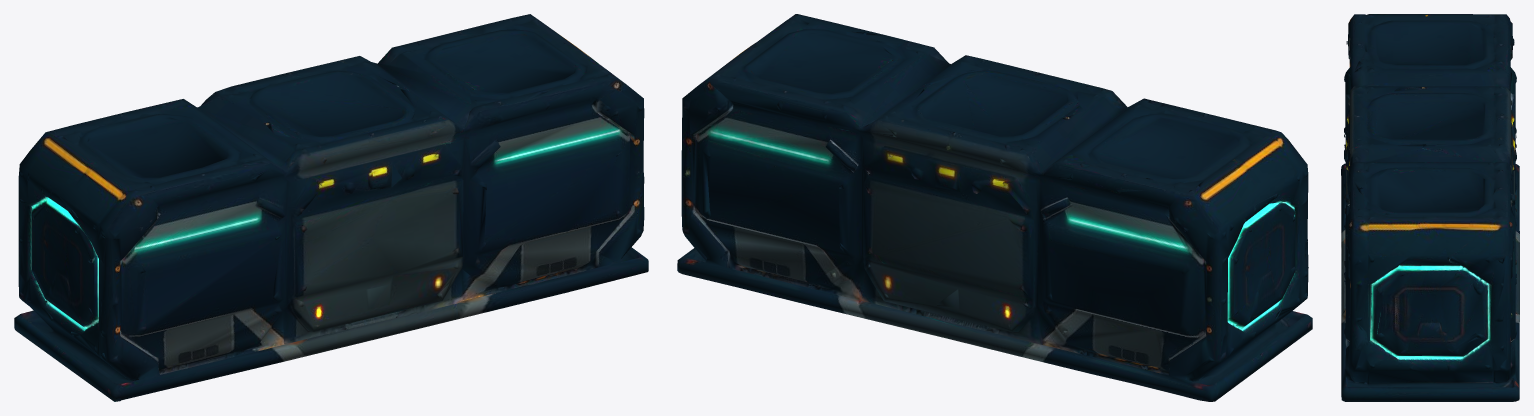
File: championship_arena_wall.glb
The picture shows the model from 3 angles, left to right: view 1: azimuth 30°, elevation 25°; view 2: azimuth 150°, elevation 25°; view 3: azimuth 270°, elevation 25°; orthographic projection. The views are drawn at different scales.
Size of the model in its own units: 1.9 by 0.6622 by 0.6226.
1 material, 1 textured.
